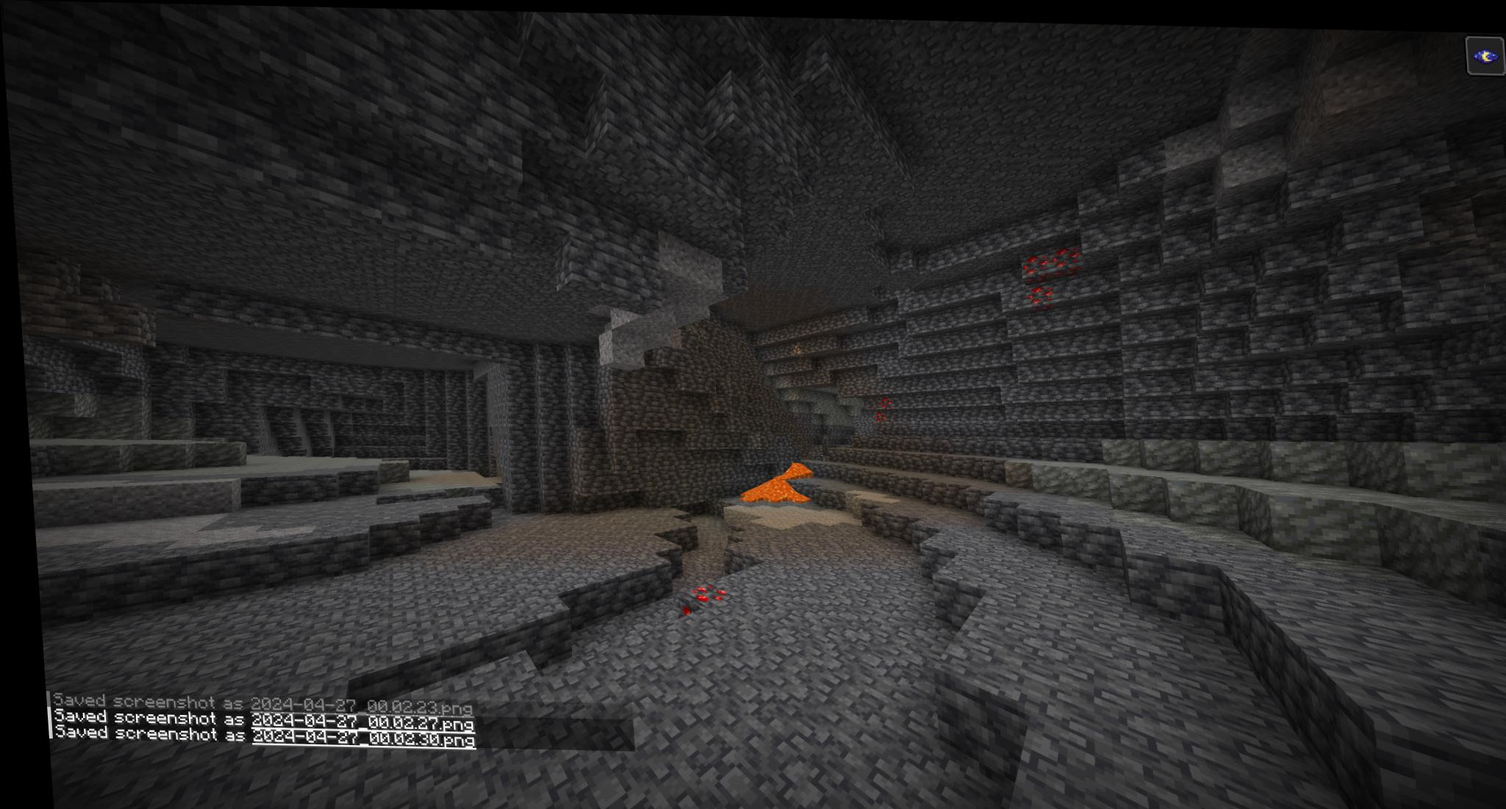redstone ore: (1019, 239, 1078, 276), (674, 577, 714, 610), (1024, 278, 1055, 307)
